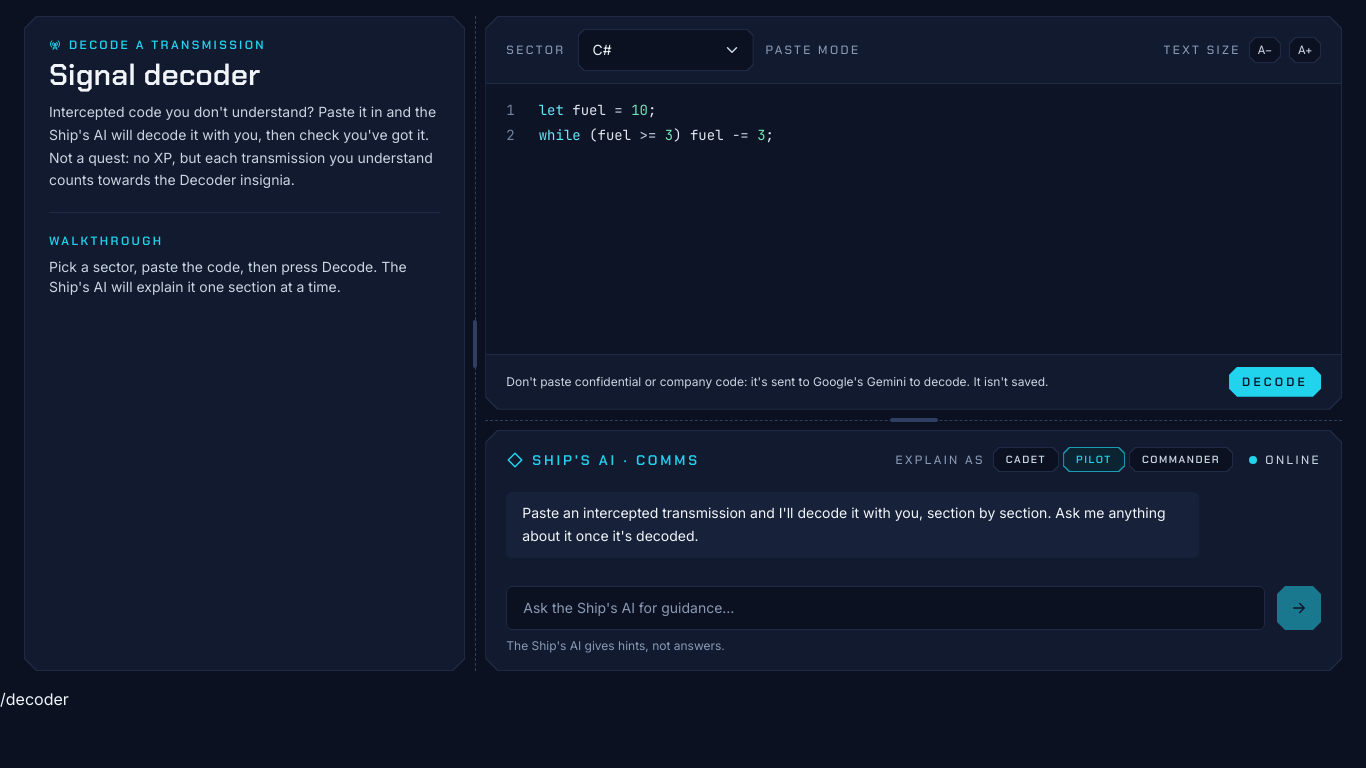
DecoderPage › the finished popup can be closed to look back over the decode
The width and height of the screenshot is (1366, 768).
Click the button "Decode".
click(1275, 382)  # box [1229, 367, 1321, 397]
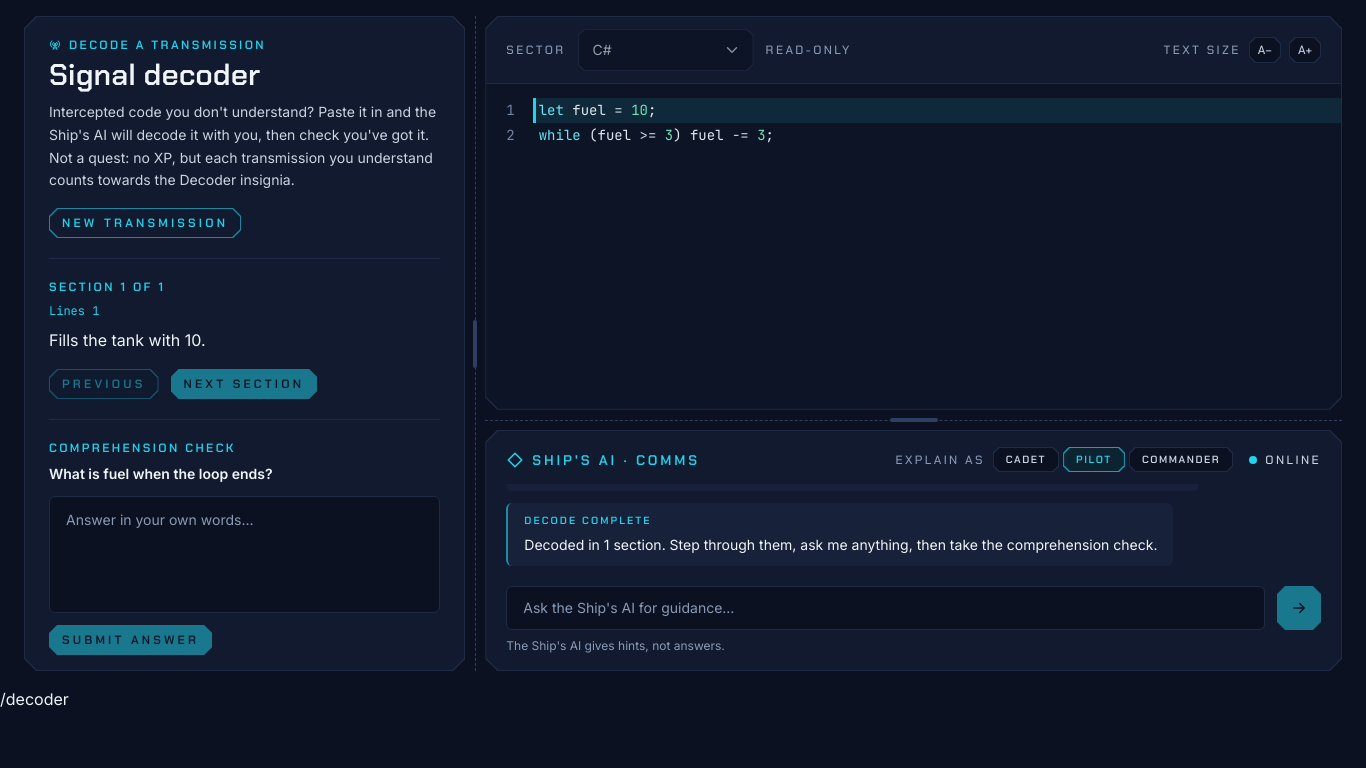
Type "It ends at 1." into the text box named "Your answer".
click(245, 554); type("It ends at 1.")  # box [49, 496, 440, 613]
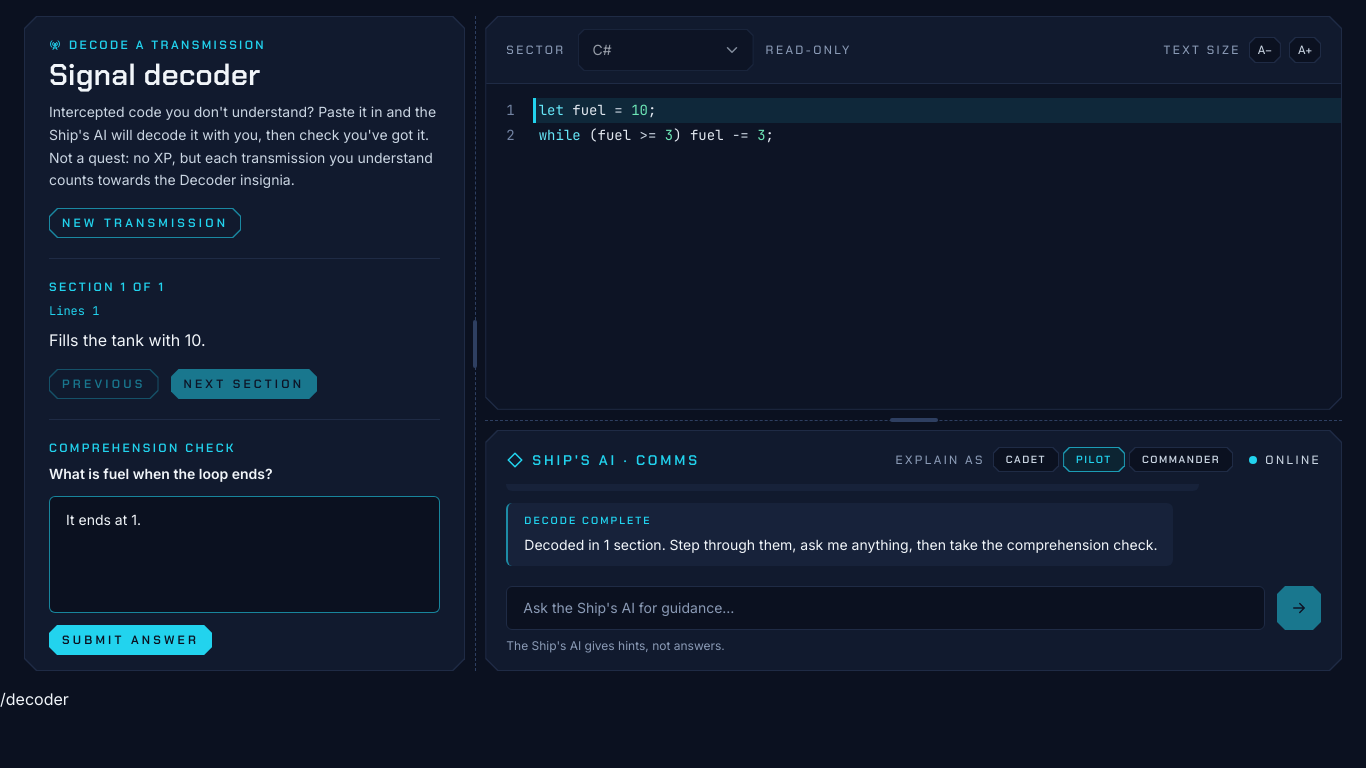
Click the button "Submit answer".
click(131, 640)  # box [49, 625, 212, 655]
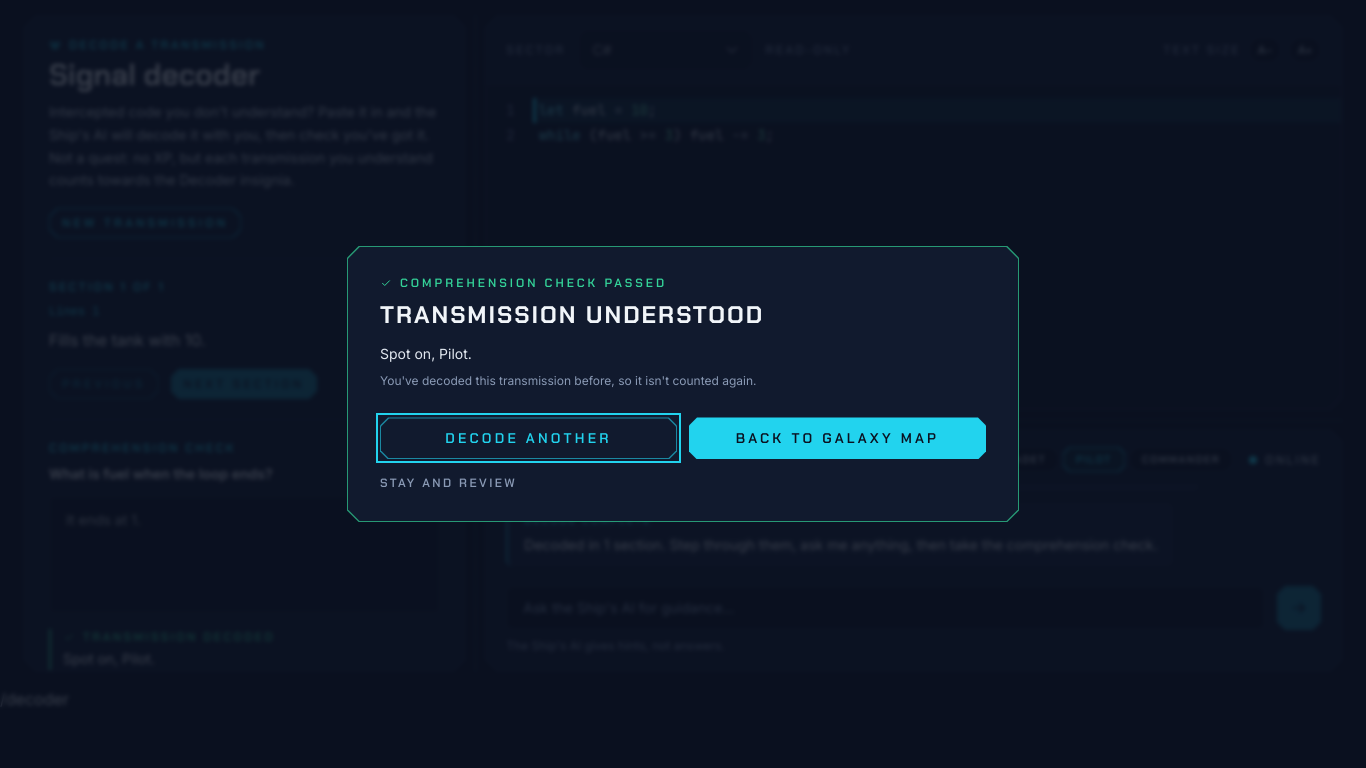
Expected: the dialog "Transmission understood" is shown, [347, 246, 1019, 522]
Click the button "Stay and review".
click(449, 483)  # box [380, 475, 517, 491]
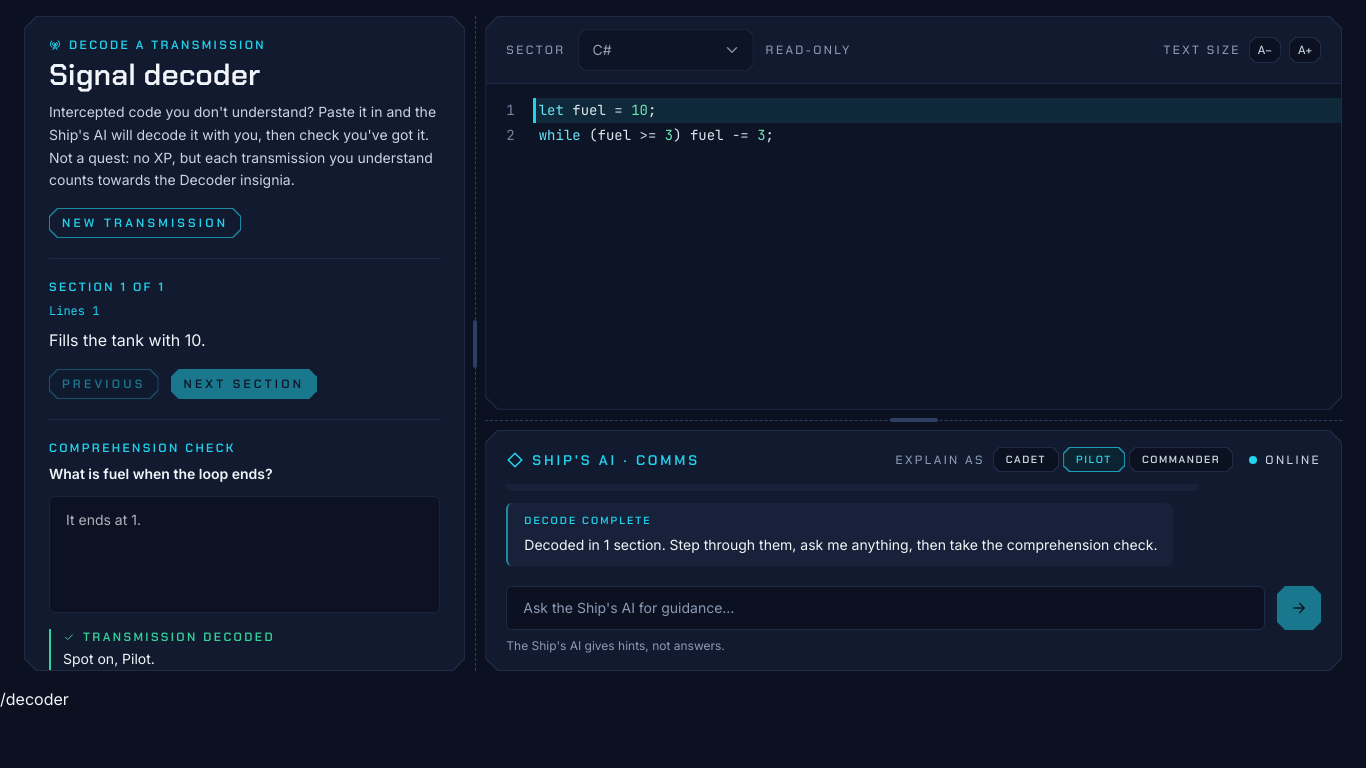
Expected: the text "Fills the tank with 10." is shown, [49, 330, 206, 350]
Expected: the dialog is gone
